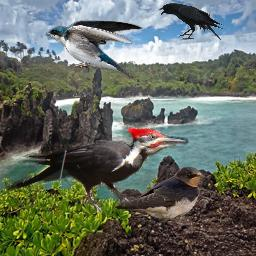Crow: (158, 3, 225, 40)
Swallow: (45, 19, 143, 79), (114, 165, 205, 223)
Woodpecker: (6, 126, 189, 215)
